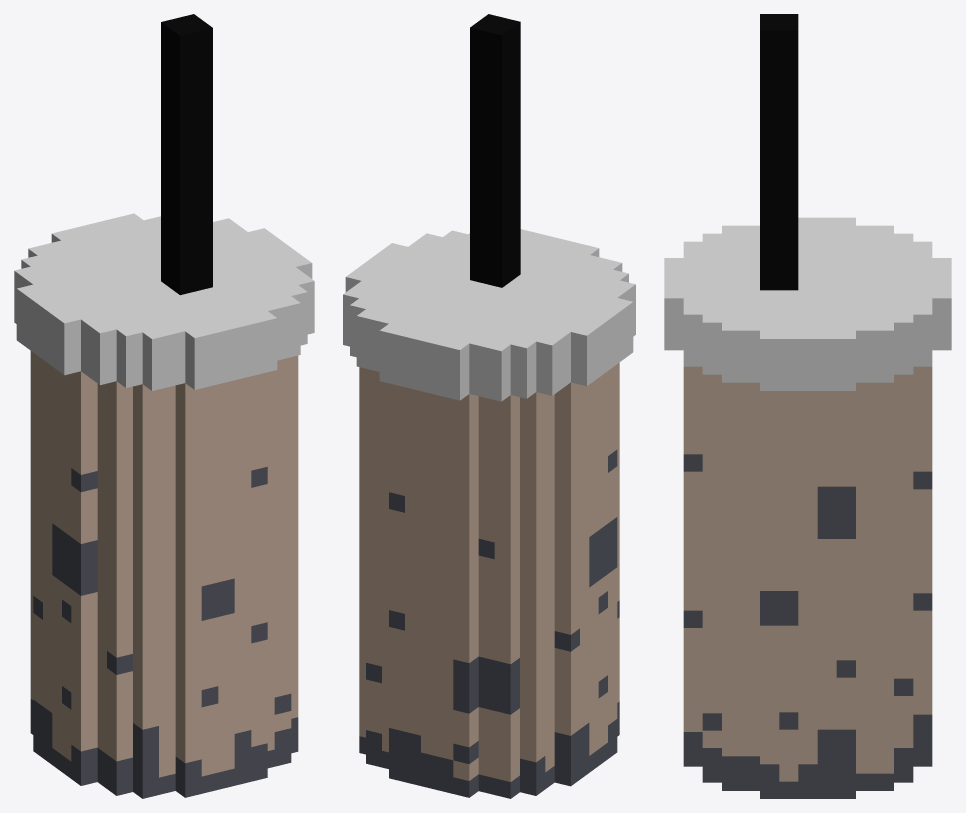
3 views of the same model, side by side, from view 1: azimuth 30°, elevation 25°; view 2: azimuth 150°, elevation 25°; view 3: azimuth 270°, elevation 25° (orthographic). The views are drawn at different scales.
Bounding box in the file's own units: 0.3571 × 1 × 0.3571.
